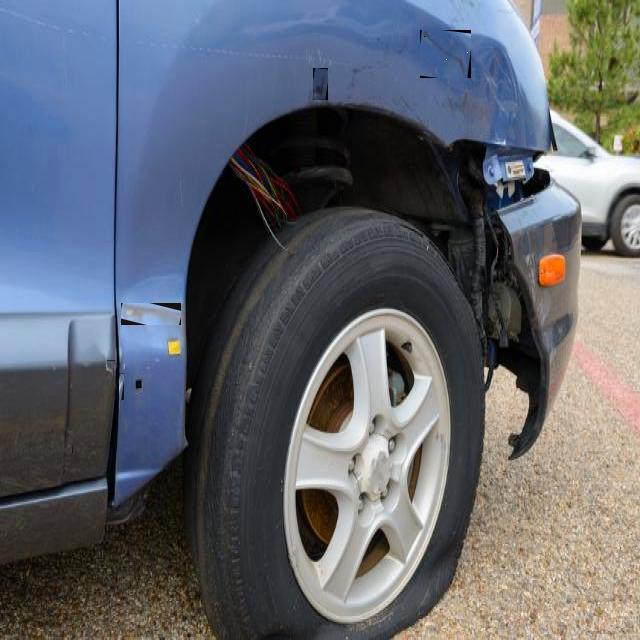Dent: (420, 30, 471, 78), (121, 303, 181, 325), (313, 68, 328, 100), (65, 432, 73, 456), (119, 373, 124, 400), (107, 360, 115, 373)
